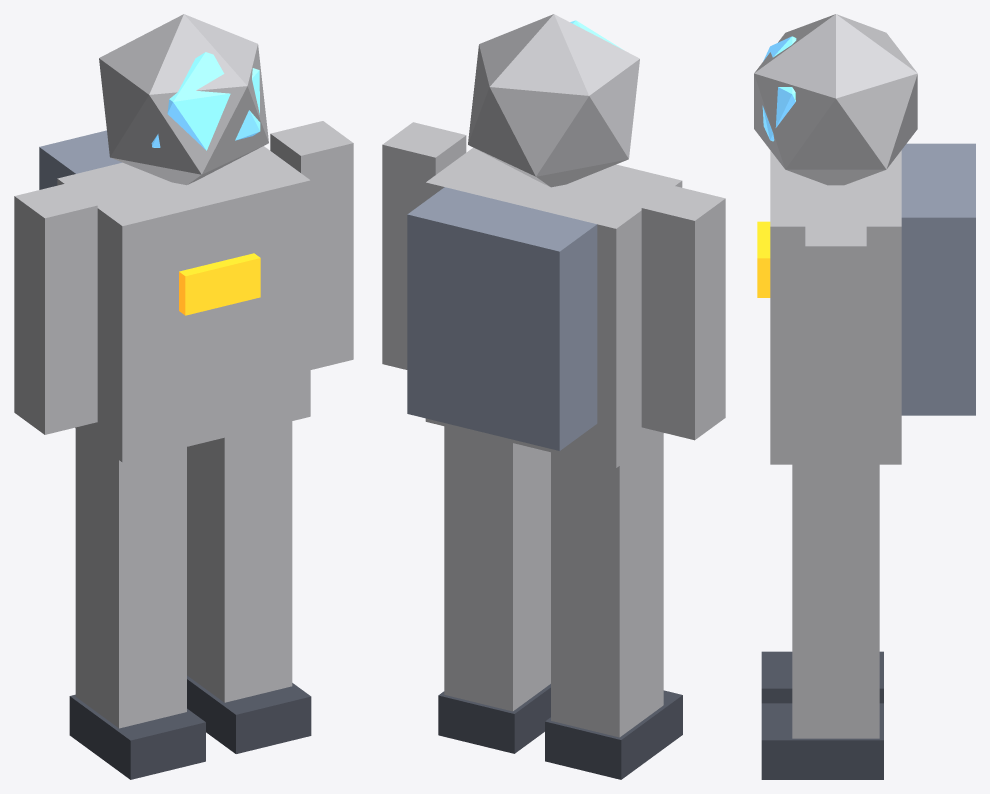
Rendered from stationpack-astronaut-suit.glb.
3 views of the same model, side by side, from view 1: azimuth 30°, elevation 25°; view 2: azimuth 150°, elevation 25°; view 3: azimuth 270°, elevation 25° (orthographic).
Visible parts, largest first — view 1: astronaut_suit; view 2: astronaut_suit; view 3: astronaut_suit.
Boxes of the visible parts, left/top/right/bottom form: astronaut_suit: left=14, top=14, right=353, bottom=779; astronaut_suit: left=382, top=14, right=725, bottom=779; astronaut_suit: left=754, top=14, right=975, bottom=779.
Size of the model in its own units: 0.82 by 1.82 by 0.5071.
